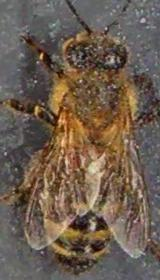varroa_mite: (58, 150, 90, 170)
